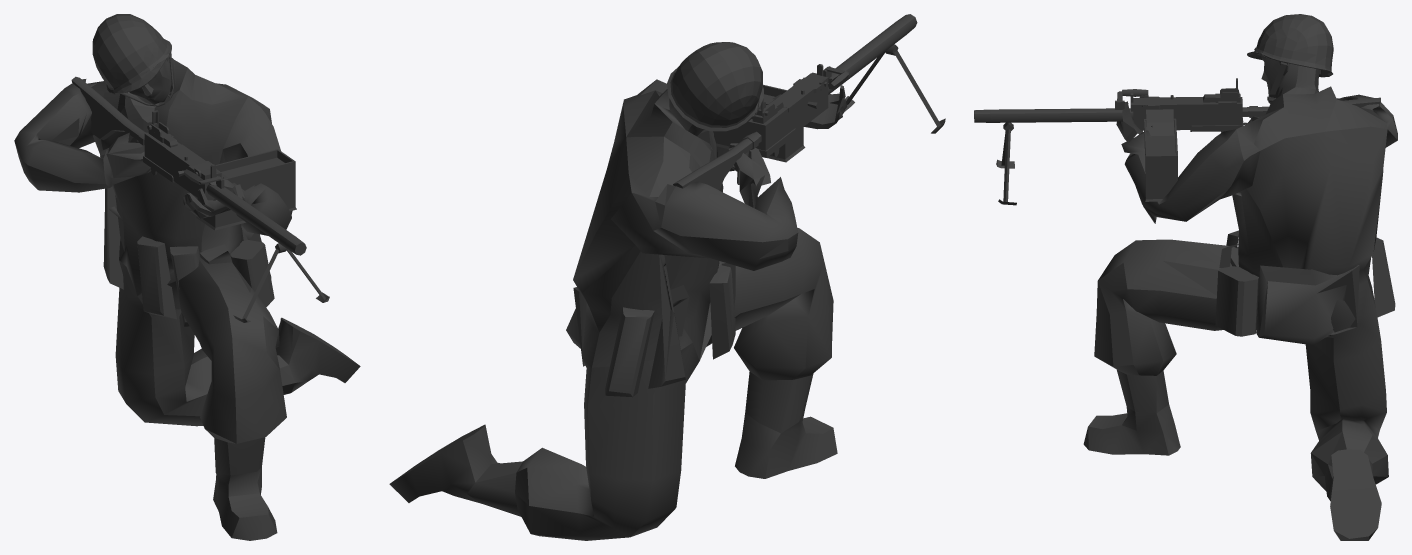
Rendered from us_bar_acc.glb.
3 views of the same model, side by side, from view 1: azimuth 30°, elevation 25°; view 2: azimuth 150°, elevation 25°; view 3: azimuth 270°, elevation 25° (orthographic). The views are drawn at different scales.
Visible parts, largest first — view 1: Object.004_Object.017_2; view 2: Object.004_Object.017_2; view 3: Object.004_Object.017_2.
Part boxes in pixels (x1,y1,x2,y2): Object.004_Object.017_2: (14,14,360,540); Object.004_Object.017_2: (389,14,945,540); Object.004_Object.017_2: (974,14,1397,540).
Bounding box in the file's own units: 0.3019 × 0.3787 × 0.3434.
Materials: 1 (1 with a texture image).
